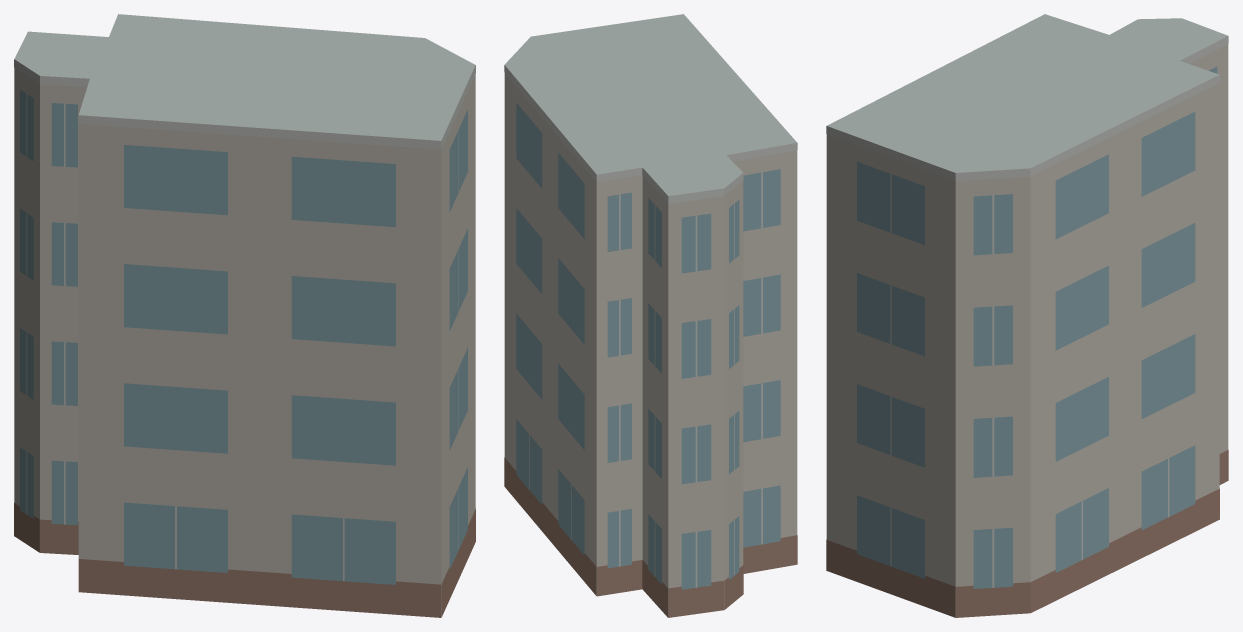
Rendered from survey-upis-32691998.glb.
3 renders of one model, left to right at view 1: azimuth 30°, elevation 25°; view 2: azimuth 150°, elevation 25°; view 3: azimuth 270°, elevation 25°, orthographic. The views are drawn at different scales.
Parts seen in each view (by area): view 1: survey-upis-32691998.tmp; view 2: survey-upis-32691998.tmp; view 3: survey-upis-32691998.tmp.
Part boxes in pixels (<box>): survey-upis-32691998.tmp: <box>14,14,475,617</box>; survey-upis-32691998.tmp: <box>504,14,797,617</box>; survey-upis-32691998.tmp: <box>826,14,1228,617</box>.
Size of the model in its own units: 10.36 by 13.5 by 11.06.
